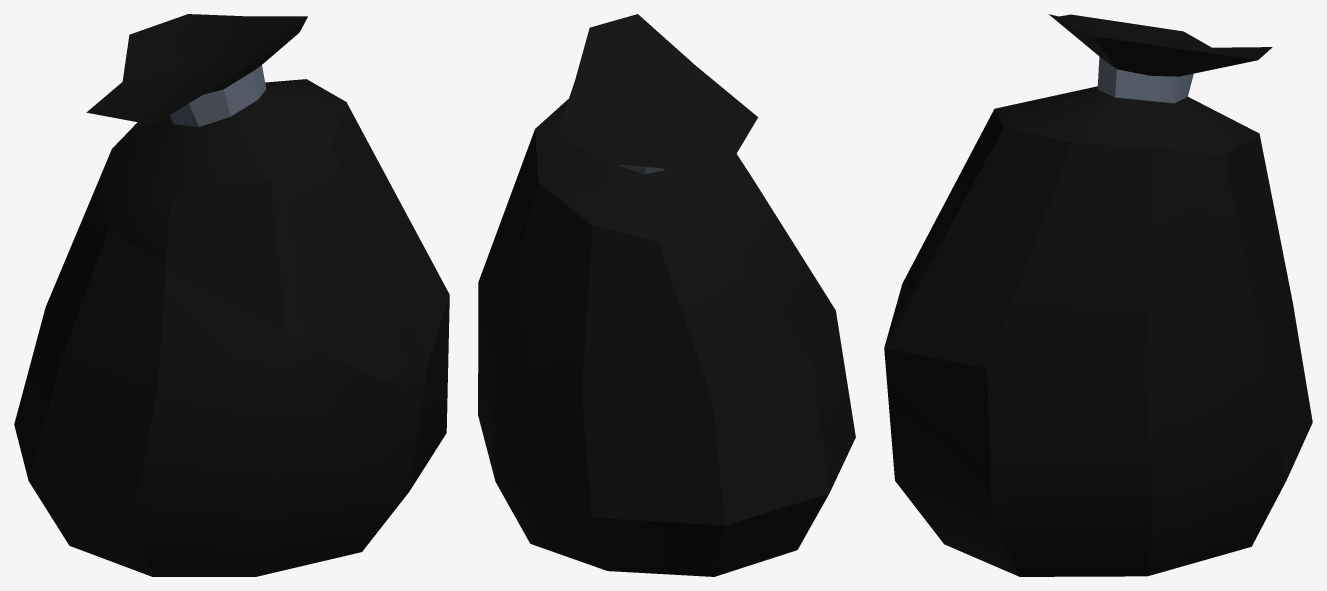
Rendered from Trash 2 Fractured.fbx.
3 renders of one model, left to right at view 1: azimuth 30°, elevation 25°; view 2: azimuth 150°, elevation 25°; view 3: azimuth 270°, elevation 25°, orthographic. The views are drawn at different scales.
Parts seen in each view (by area): view 1: Trash_02_Breaking.001, Trash_02_Breaking; view 2: Trash_02_Breaking.001, Trash_02_Breaking; view 3: Trash_02_Breaking, Trash_02_Breaking.001.
Boxes of the visible parts, x1,y1,x2,y2 form: Trash_02_Breaking.001: (14,206,447,576); Trash_02_Breaking: (86,14,449,397); Trash_02_Breaking.001: (478,227,855,576); Trash_02_Breaking: (478,14,782,382); Trash_02_Breaking: (884,14,1283,474); Trash_02_Breaking.001: (887,239,1312,576).
Bounding box in the file's own units: 41.56 × 54.25 × 40.24.
